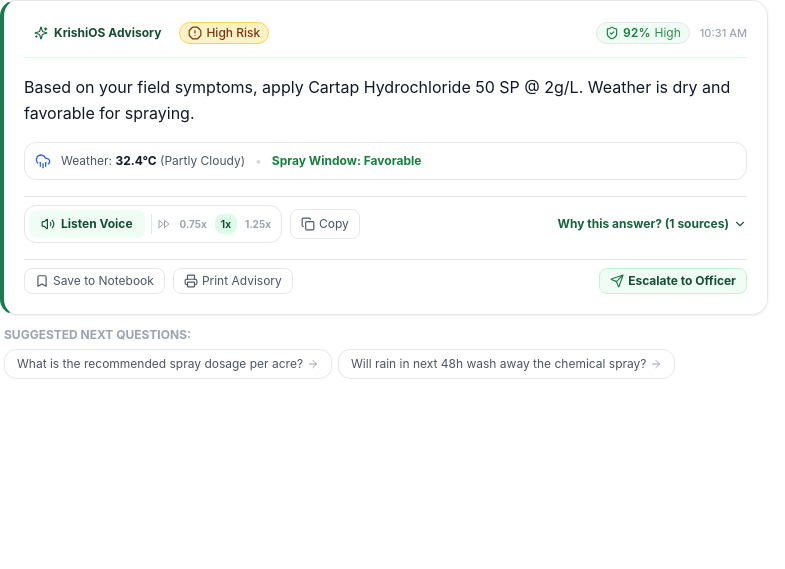
Test: RichAIMessage › expands "Why this answer?" evidence drawer and displays ICAR citations
Click the button "Why this answer? (1 sources)" at (652, 224), box [558,216,747,232]
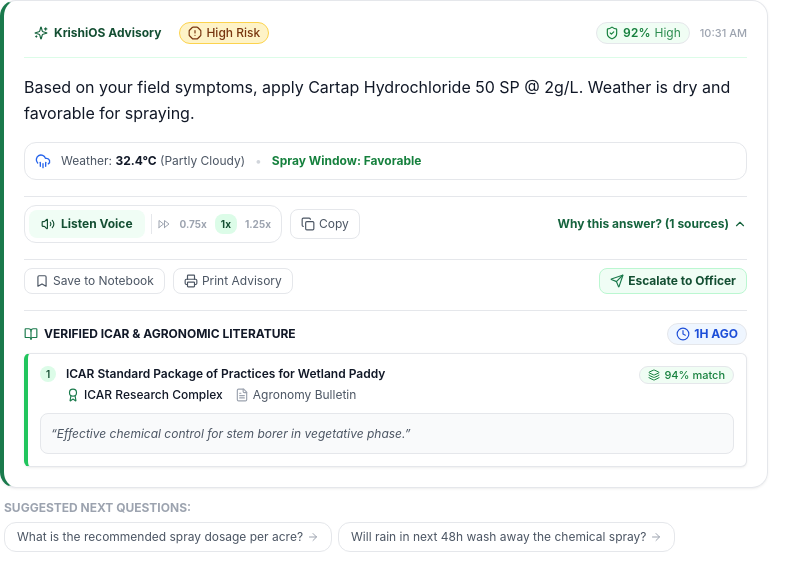
Check: the heading "ICAR Standard Package of Practices for Wetland Paddy" is shown, box [66,366,385,381]
Check: the text "ICAR Research Complex" is shown, box [84,386,223,402]
